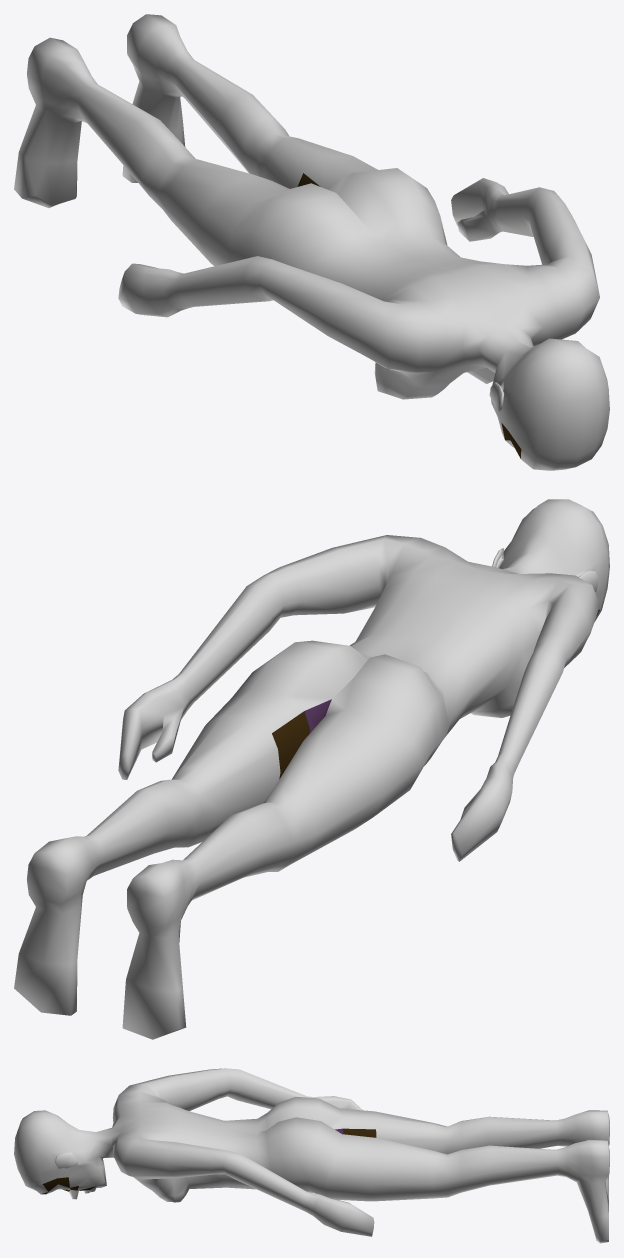
Rendered from kadijah.fbx.
3 renders of one model, top to bottom at view 1: azimuth 30°, elevation 25°; view 2: azimuth 150°, elevation 25°; view 3: azimuth 270°, elevation 25°, orthographic. The views are drawn at different scales.
Visible parts, largest first — view 1: kadijah; view 2: kadijah; view 3: kadijah.
Part boxes in pixels (left/top/right/bottom): kadijah: left=14, top=14, right=609, bottom=470; kadijah: left=14, top=499, right=609, bottom=1039; kadijah: left=14, top=1068, right=609, bottom=1243.
Size of the model in its own units: 0.7006 by 0.3401 by 1.56.
